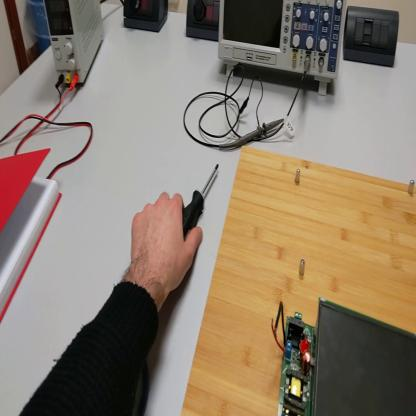hand: (127, 193, 202, 301)
low voltage board: (272, 300, 416, 414)
oscilloscope: (220, 1, 347, 94)
oscilloscope probe tip: (221, 115, 286, 152)
power supply: (45, 2, 105, 88)
register: (2, 141, 63, 322)
screwdriver-: (184, 165, 221, 241)
socket: (125, 1, 171, 38), (188, 2, 222, 43)
working area: (180, 149, 415, 414)
